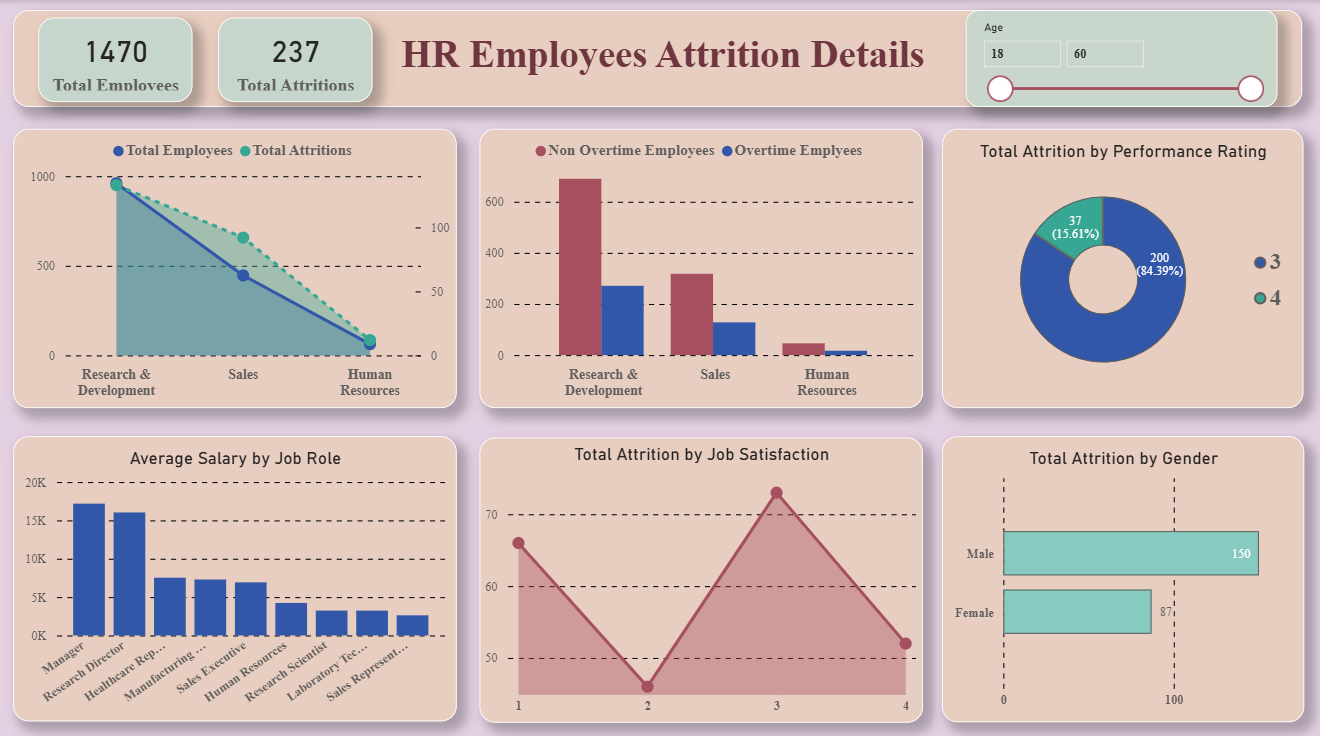

This screenshot's page, from the dashboard's own definition file:
{"tool":"powerbi","page":{"name":"Page 1","canvas":[1280,720],"ordinal":0},"visuals":[{"type":"lineChart","title":"Total Employees and Attritions by Department Name","fields":{"Category":["DIM_DEPARTMENT.Department_Name"],"Y":["FACT_EMPLOYEE_ANALYTICS.Total Employees"],"Y2":["FACT_EMPLOYEE_ANALYTICS.Total Attritions"]},"box":[15.5,124.2,427.7,269.6],"z":0},{"type":"columnChart","title":"Average Salary by Job Role","fields":{"Category":["DIM_JOB.Job_role"],"Y":["FACT_EMPLOYEE_ANALYTICS.Average Monthly Income"]},"box":[15.5,420.6,427.7,275.3],"z":1000},{"type":"areaChart","title":"Total Attrition by Job Satisfaction ","fields":{"Category":["FACT_EMPLOYEE_ANALYTICS.Job_satisfaction"],"Y":["FACT_EMPLOYEE_ANALYTICS.Total Attritions"]},"box":[465.8,422.1,427.7,275.3],"z":2000},{"type":"clusteredColumnChart","title":"Total Attrition by Job Satisfaction ","fields":{"Category":["DIM_DEPARTMENT.Department_Name"],"Y":["FACT_EMPLOYEE_ANALYTICS.Non Overtime Employees","FACT_EMPLOYEE_ANALYTICS.Overtime Emplyees"]},"box":[465.4,124.3,428.1,269.3],"z":3000},{"type":"donutChart","title":"Total Attrition by Performance Rating","fields":{"Y":["FACT_EMPLOYEE_ANALYTICS.Total Attritions"],"Category":["FACT_EMPLOYEE_ANALYTICS.Performance_rating"]},"box":[911.9,124.2,348.7,269.6],"z":4000},{"type":"clusteredBarChart","title":"Total Attrition by Gender","fields":{"Category":["DIM_EMPLOYEES.Gender"],"Y":["FACT_EMPLOYEE_ANALYTICS.Total Attritions"]},"box":[911.5,421.2,349.4,276.2],"z":5000},{"type":"textbox","box":[15.2,9.7,1244.4,93.9],"z":6000},{"type":"card","fields":{"Values":["FACT_EMPLOYEE_ANALYTICS.Total Employees"]},"box":[40.1,16.6,149.2,81.5],"z":7000},{"type":"card","fields":{"Values":["FACT_EMPLOYEE_ANALYTICS.Total Attritions"]},"box":[214.1,16.6,149.2,81.5],"z":8000},{"type":"slicer","fields":{"Values":["DIM_EMPLOYEES.Age"]},"box":[935,9.7,301.1,93.9],"z":9000}]}

Visuals, with their boxes in screenshot pixels (x1, y1, x2, y2), scaled from the page's 1280x720 canvas onto the 1320x736 screenshot:
"Total Employees and Attritions by Department Name" lineChart: [16, 127, 457, 403]
"Average Salary by Job Role" columnChart: [16, 430, 457, 711]
"Total Attrition by Job Satisfaction " areaChart: [480, 431, 921, 713]
"Total Attrition by Job Satisfaction " clusteredColumnChart: [480, 127, 921, 402]
"Total Attrition by Performance Rating" donutChart: [940, 127, 1300, 403]
"Total Attrition by Gender" clusteredBarChart: [940, 431, 1300, 713]
textbox: [16, 10, 1299, 106]
card - FACT_EMPLOYEE_ANALYTICS.Total Employees: [41, 17, 195, 100]
card - FACT_EMPLOYEE_ANALYTICS.Total Attritions: [221, 17, 375, 100]
slicer - DIM_EMPLOYEES.Age: [964, 10, 1275, 106]
